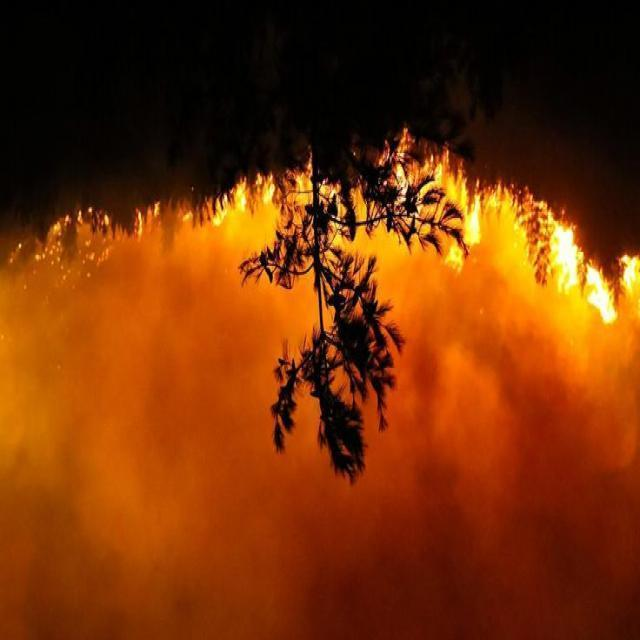tree: (246, 155, 474, 500)
